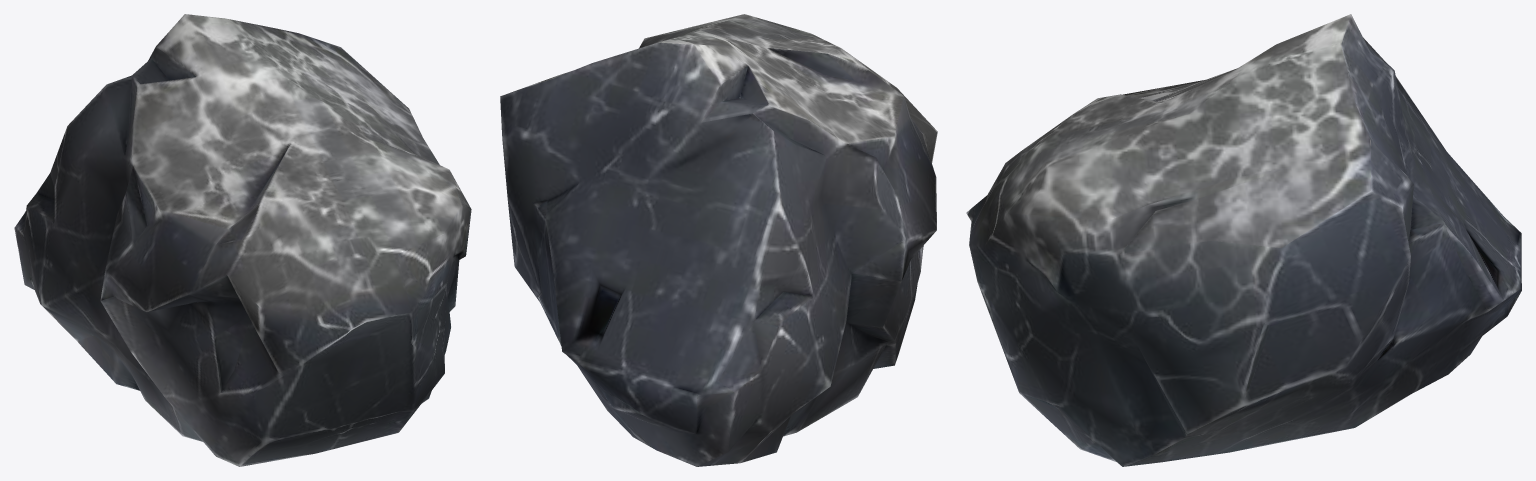
The model's file is rock-chunk-medium.glb.
The picture shows the model from 3 angles, left to right: view 1: azimuth 30°, elevation 25°; view 2: azimuth 150°, elevation 25°; view 3: azimuth 270°, elevation 25°; orthographic projection. The views are drawn at different scales.
Size of the model in its own units: 1.59 by 1.56 by 2.02.
Materials: 1 (1 with a texture image).
